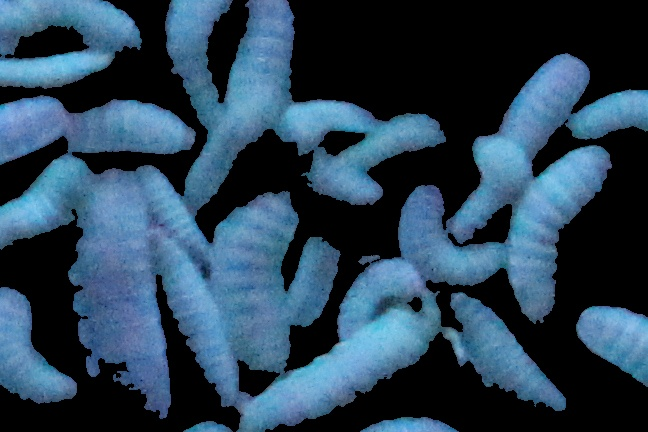larvae: (71, 166, 168, 418), (233, 310, 424, 430), (504, 142, 612, 321), (213, 192, 297, 374), (151, 234, 241, 403), (448, 293, 567, 411), (397, 184, 502, 280), (222, 1, 296, 134), (1, 285, 79, 402), (499, 54, 590, 151), (1, 156, 90, 250), (66, 98, 195, 155), (166, 1, 231, 110), (137, 164, 210, 258), (1, 1, 141, 49), (576, 304, 648, 388), (339, 260, 420, 334), (340, 115, 444, 172), (293, 148, 389, 208), (1, 93, 70, 164), (287, 235, 340, 325), (1, 47, 112, 87), (565, 89, 648, 141), (186, 129, 241, 207), (471, 129, 531, 195), (450, 181, 511, 242), (287, 97, 370, 135)
